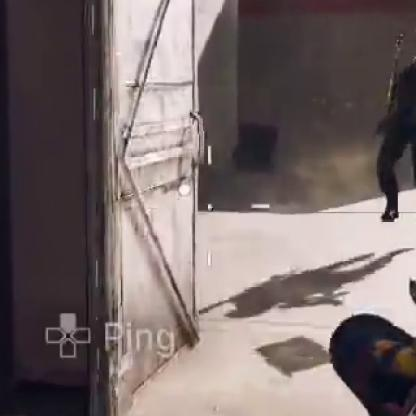enemy: (372, 50, 416, 224)
